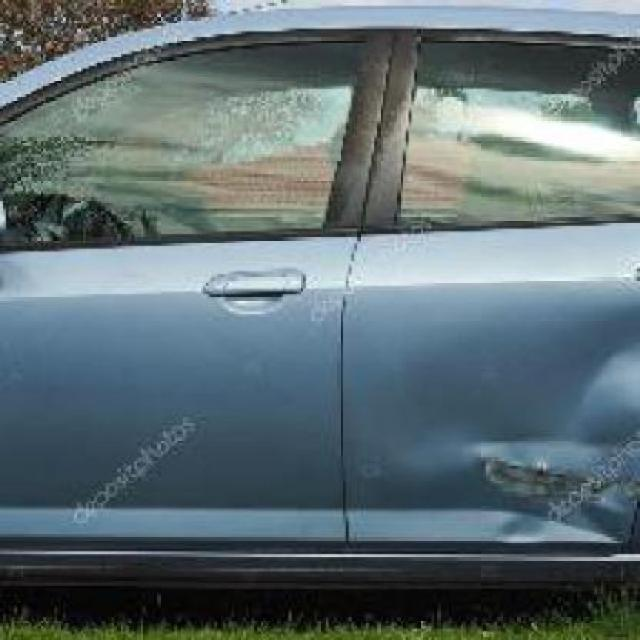dent-or-scratch: (448, 392, 638, 528)
